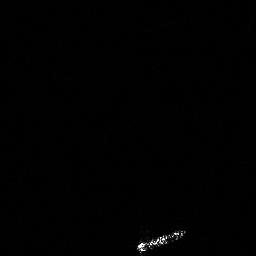ship: (137, 230, 187, 250)
